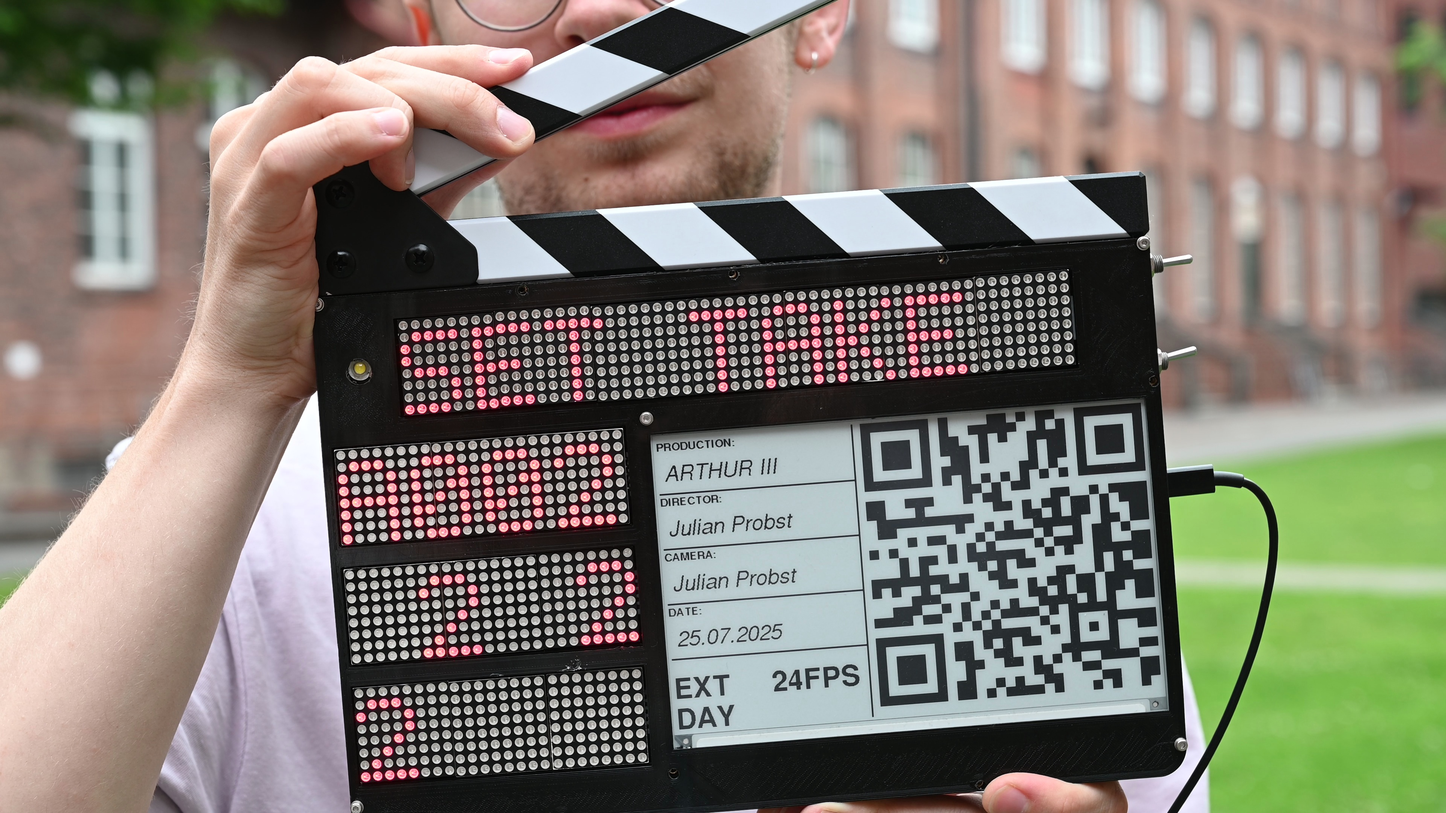ARC-SLATE: (312, 233, 1185, 813)
